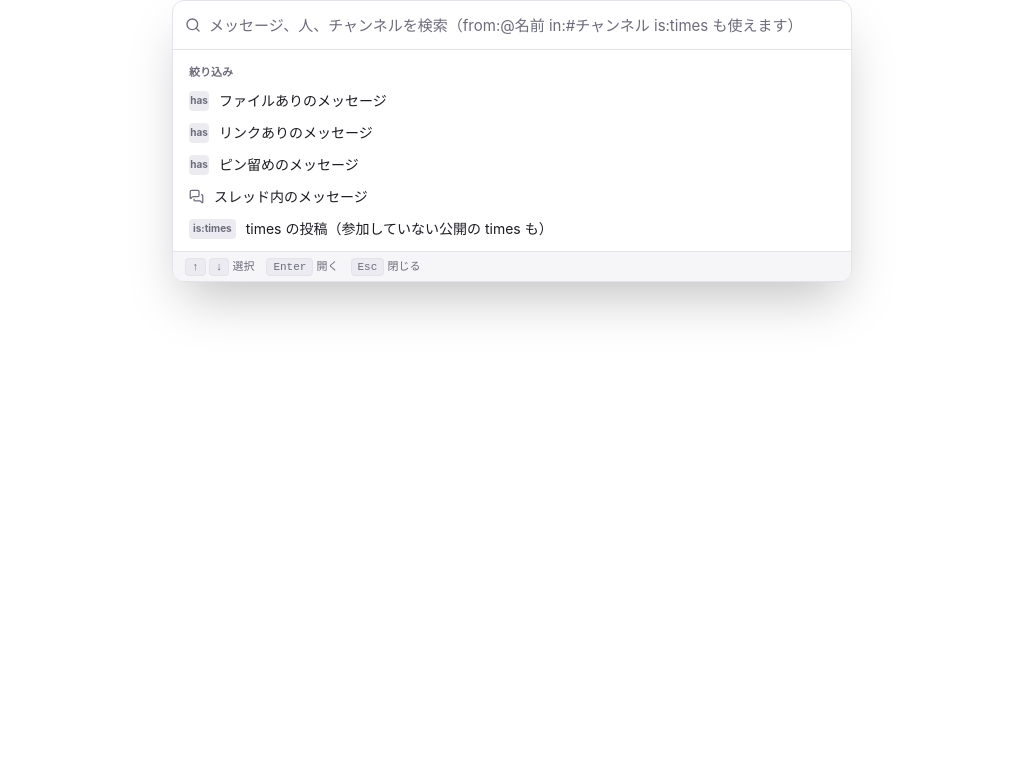
Test: search box live results › shows the best messages with the words marked, once typing pauses and never mid-conversion
The width and height of the screenshot is (1024, 768).
Type "せっけい" into the field named "検索語" at (524, 25), box [209,1,839,49]
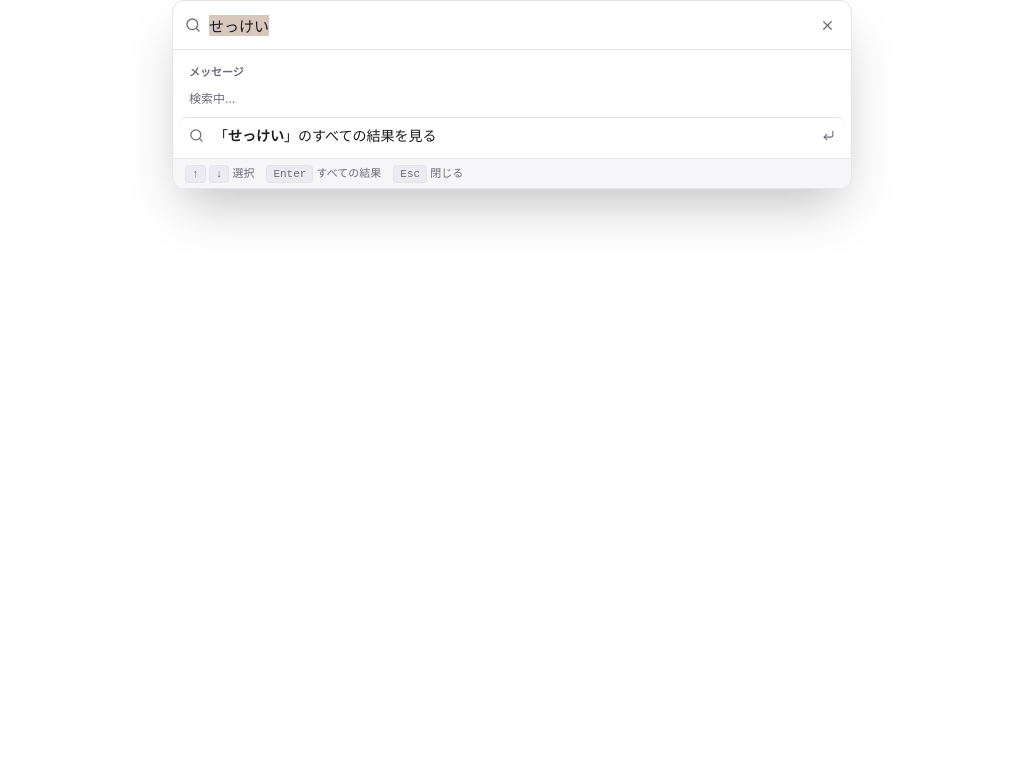
Replace the text in the field named "検索語" with "設計" at (508, 25), box [209,1,808,49]
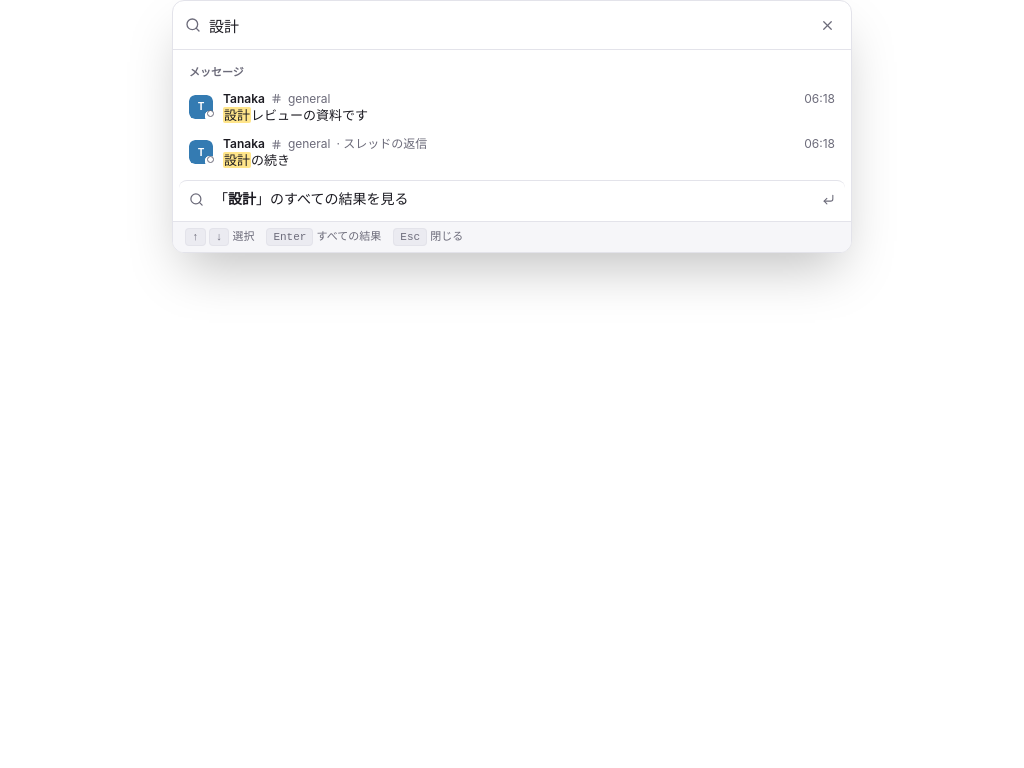
Expected: the text "メッセージ" is shown, [189,65,244,79]
Expected: the text "設計レビューの資料です" is shown, [223,106,368,122]
Expected: the text "設計" is shown 2 times, [223,106,251,122]; [223,152,251,168]
